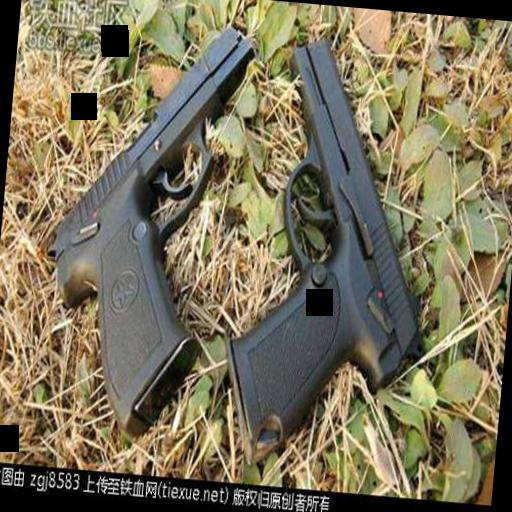Handgun: (28, 8, 258, 448), (215, 31, 445, 463)
